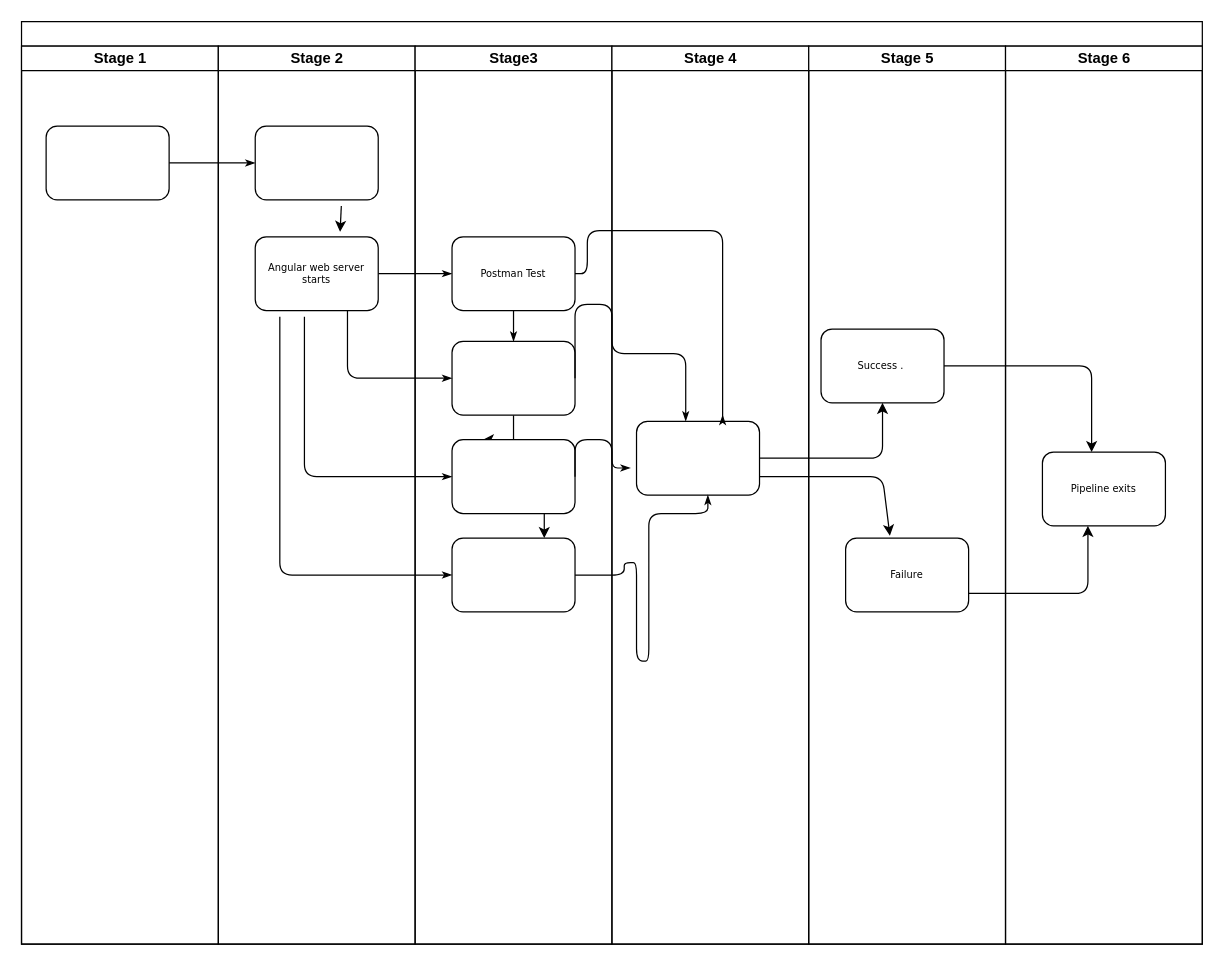
Some shapes in this 1224 by 966 pixel diagram are drawn without their labels. Here are the shapes that lost their labels. From the top down, the centre of each, then its label:
At (x=107, y=162): "jenkins pipeline starts".
At (x=316, y=162): "Rest Api Starts".
At (x=513, y=377): "Robot Framework".
At (x=513, y=476): "Junit tests".
At (x=697, y=457): "Email sent if applicable".
